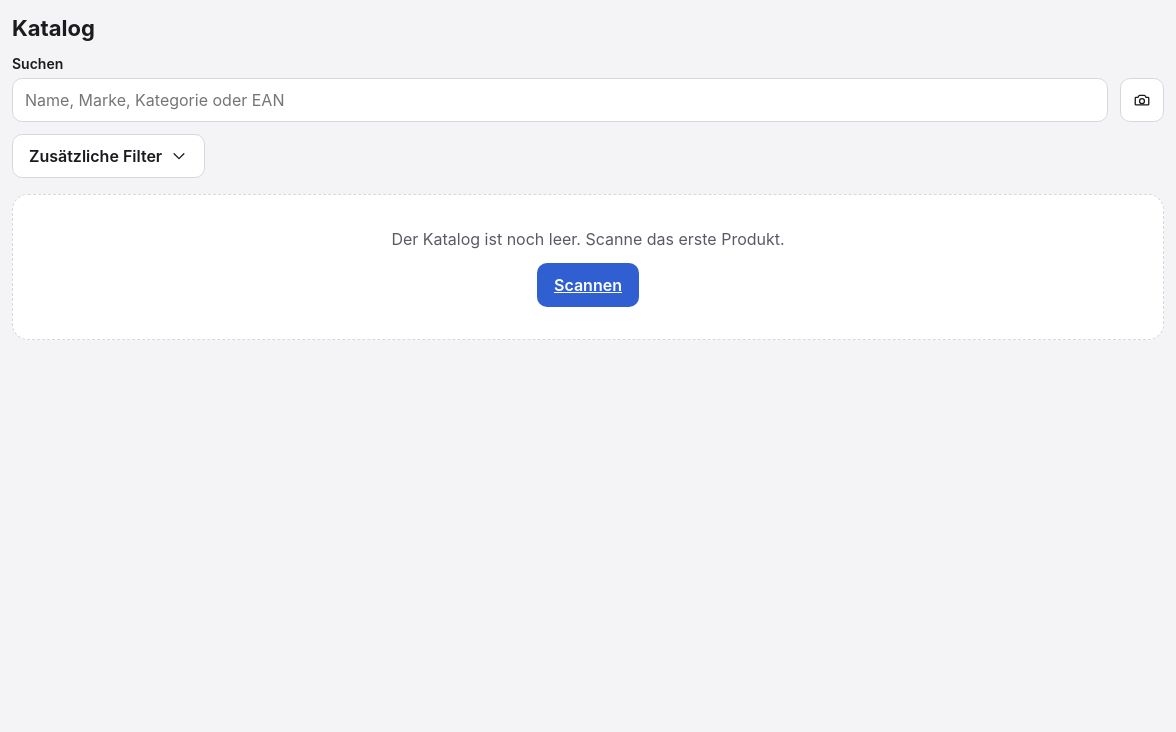
Test: CataloguePage › says that a filtered list is empty for a different reason
Check: the text "Der Katalog ist noch leer. Scanne das erste Produkt." is shown, box [391, 227, 785, 251]
Click the button "Zusätzliche Filter": point(109, 156) [12, 134, 205, 178]
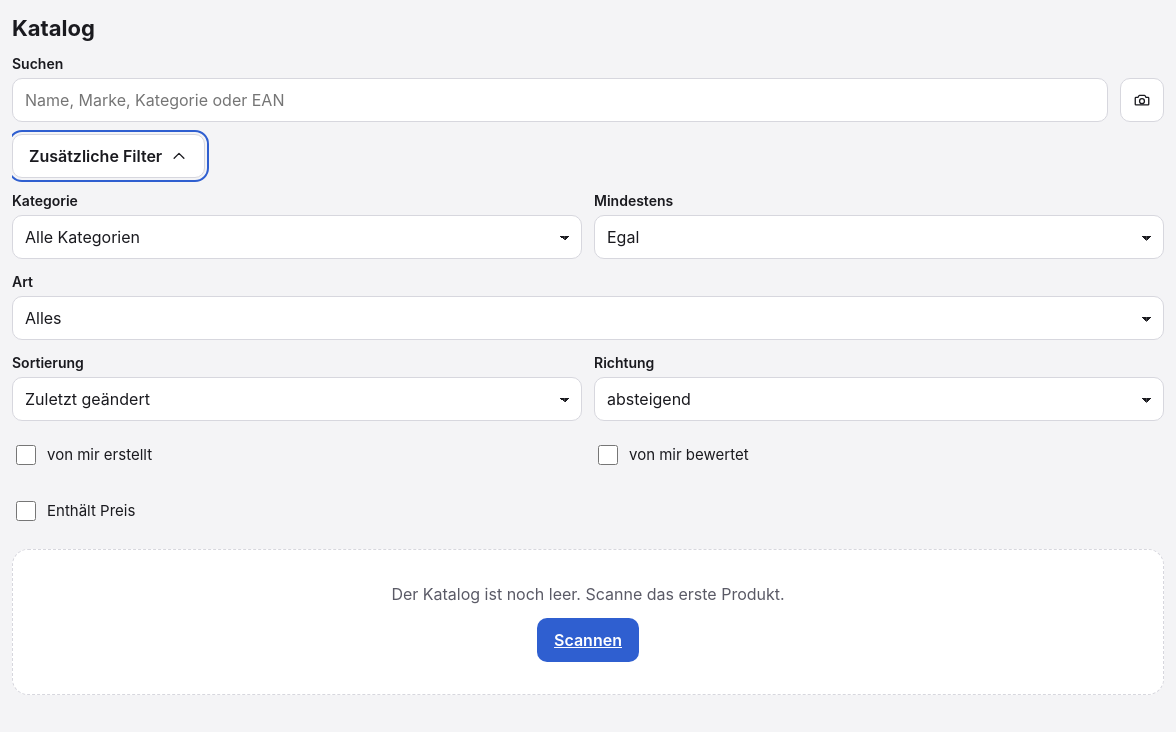
Click the checkbox labelled "von mir bewertet": point(608, 455) [598, 445, 618, 465]
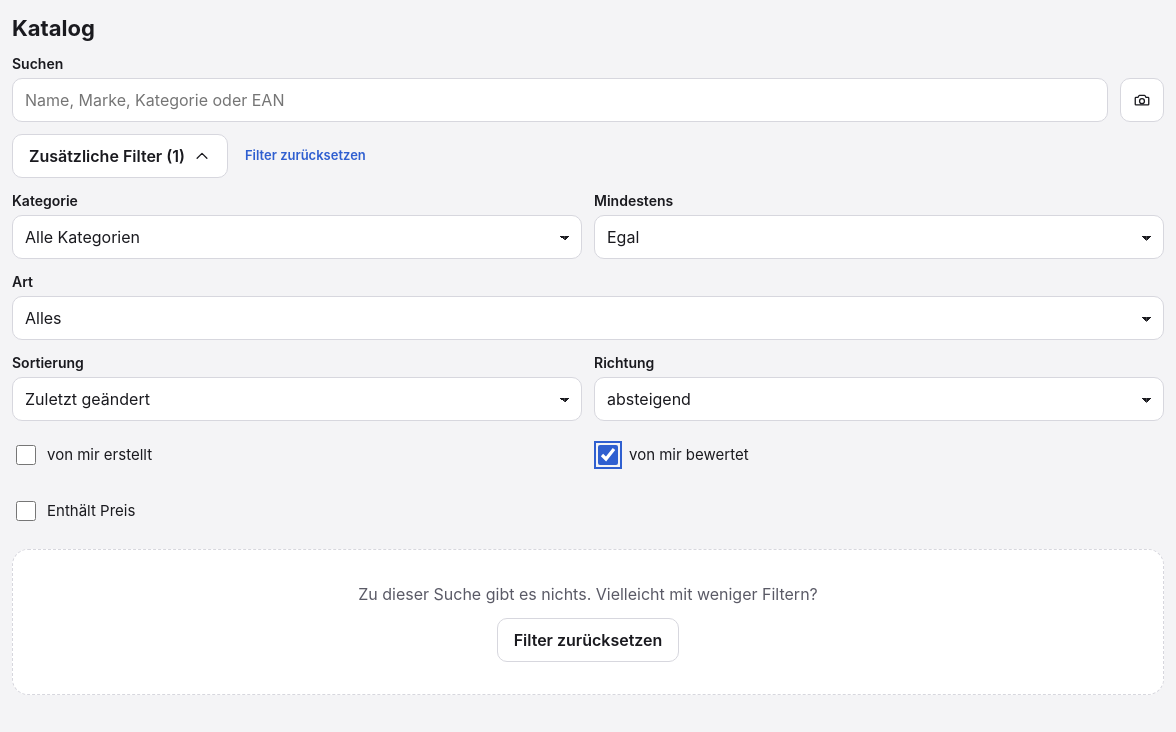
Check: the text "Zu dieser Suche gibt es nichts. Vielleicht mit weniger Filtern?" is shown, box [358, 582, 818, 606]
